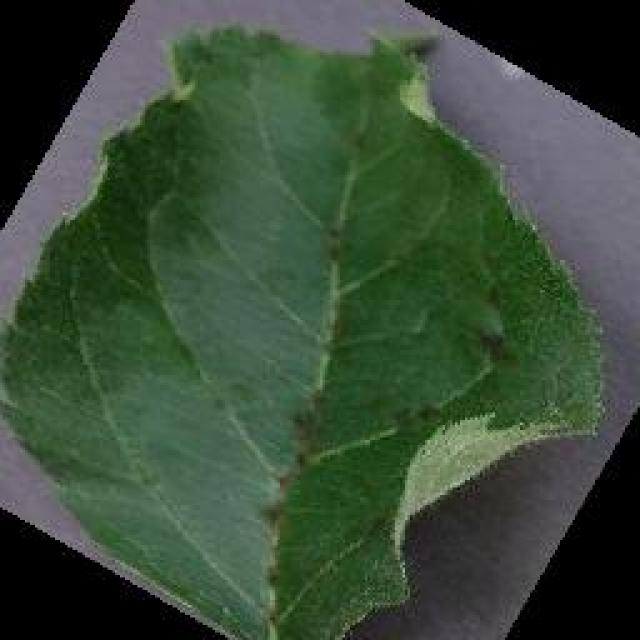apple scab disease: (0, 18, 610, 638)
